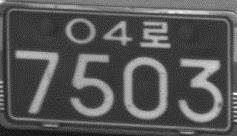0: (121, 56, 169, 121), (64, 17, 97, 45)
3: (177, 56, 223, 123)
4: (102, 20, 133, 46)
5: (69, 52, 115, 118)
7: (14, 49, 59, 114)
로: (139, 20, 171, 49)
